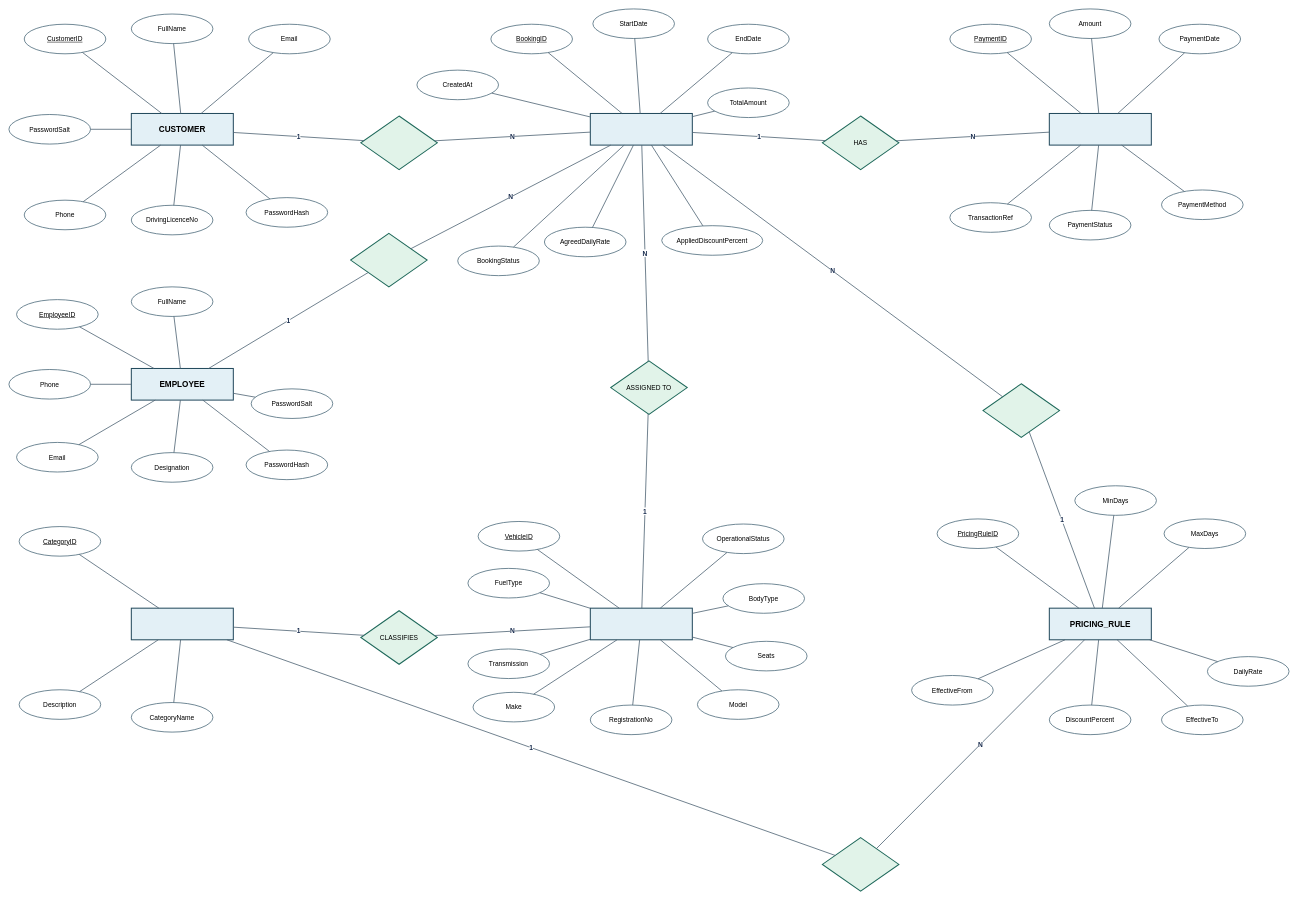
Some shapes in this 1298 by 901 pixel diagram are drawn without their labels. The centre of each missing label's shape, as x and y in pixels:
"APPLIES TO" belongs at [1021,410].
"BOOKING" belongs at [641,129].
"DEFINES RATE" belongs at [860,864].
"HANDLES" belongs at [388,260].
"MAKES" belongs at [399,142].
"PAYMENT" belongs at [1100,129].
"VEHICLE" belongs at [641,623].
"VEHICLE_CATEGORY" belongs at [182,623].
